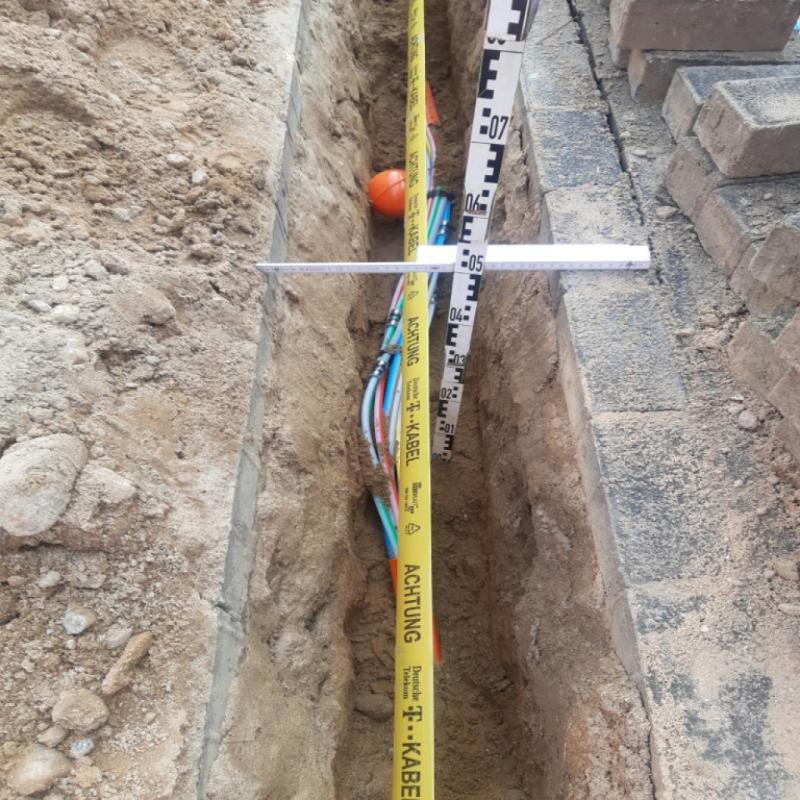Kugelmarker: (368, 169, 411, 218)
